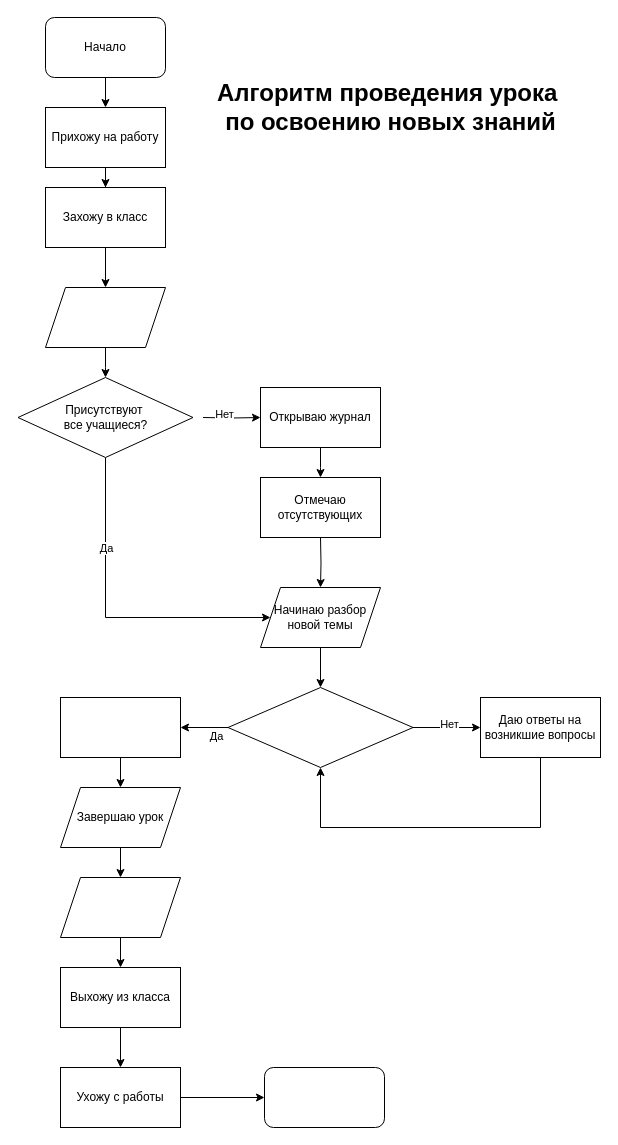
The diagram is 618 pixels wide and 1145 high, and some of its shapes have lost their labels. Each missing label, with the box of its shape:
Конец: (264, 1066, 384, 1128)
Приветствую учеников: (44, 286, 166, 348)
Провожу рефлексивные мероприятия для закрепления: (60, 696, 180, 758)
Прощаюсь с ученикам: (60, 876, 180, 938)
Ученики усвоили новый материал?: (227, 686, 413, 768)
